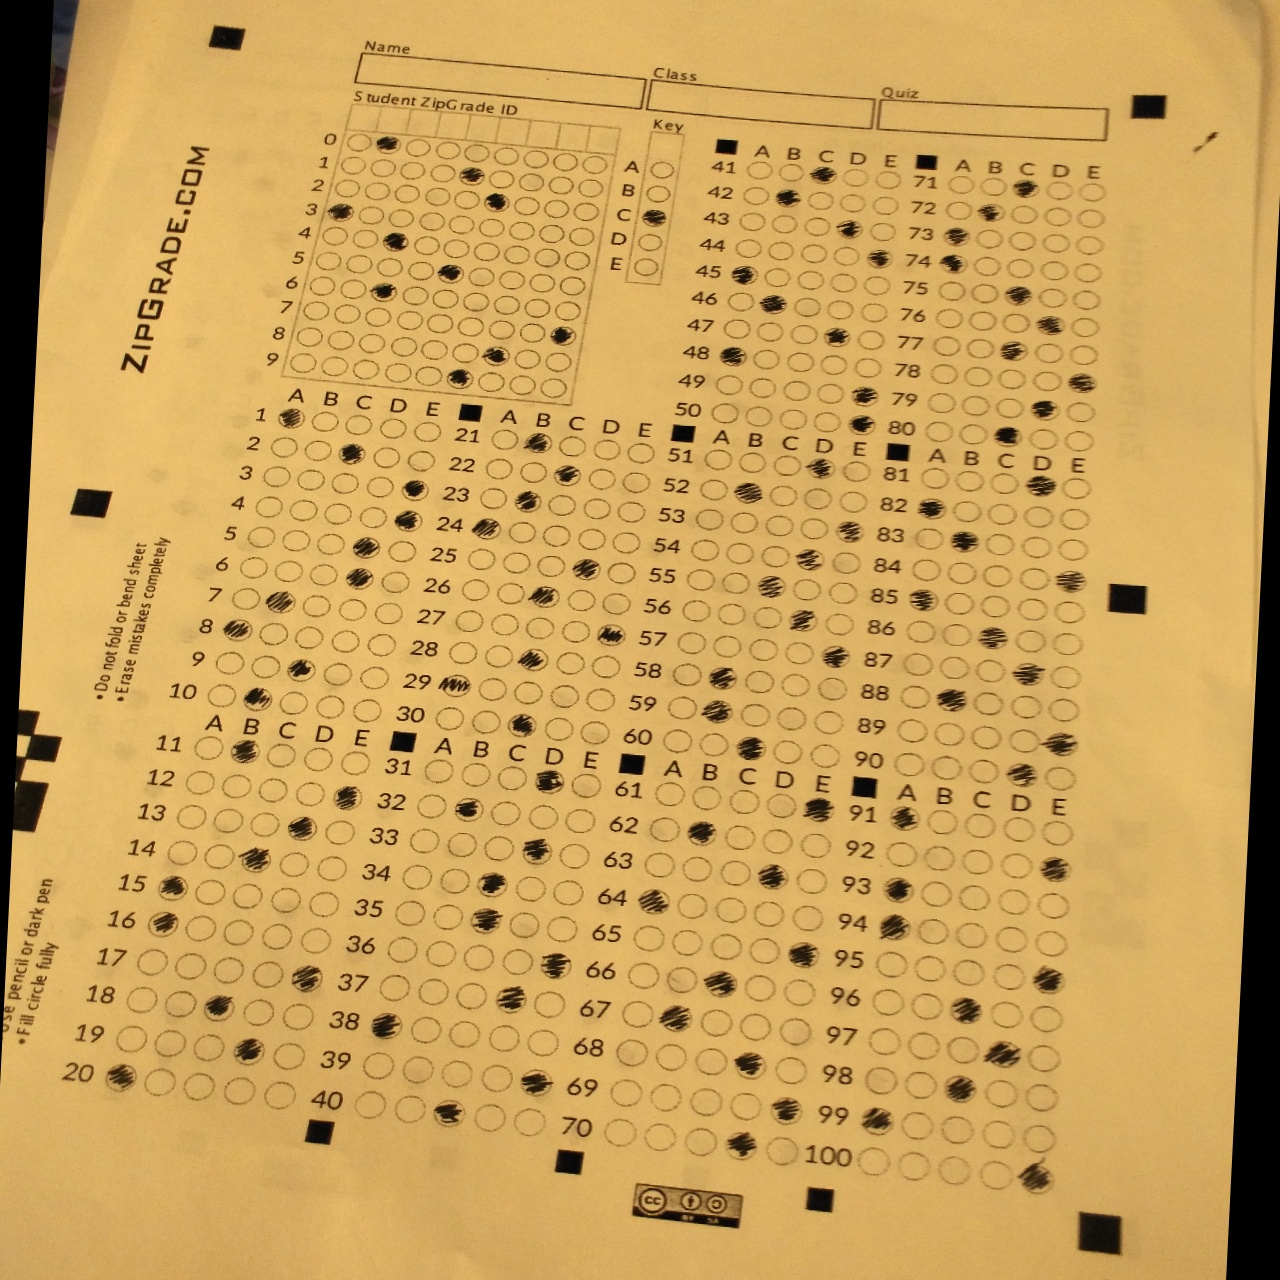not-c: (938, 1112, 978, 1148), (1019, 1122, 1058, 1156), (646, 1082, 685, 1115), (869, 985, 907, 1017), (618, 999, 655, 1032), (699, 1006, 736, 1039), (742, 972, 779, 1005), (707, 931, 744, 964), (674, 890, 712, 922), (720, 821, 757, 853), (651, 778, 688, 811), (726, 787, 763, 819), (1035, 888, 1073, 921), (1032, 928, 1070, 960), (934, 1155, 973, 1186), (763, 1135, 799, 1167), (687, 1085, 723, 1118), (717, 856, 754, 888), (990, 959, 1027, 992), (942, 1033, 979, 1065), (693, 1046, 730, 1077), (775, 1015, 812, 1047), (779, 978, 817, 1009), (745, 937, 783, 968), (645, 815, 682, 846), (688, 783, 726, 815), (881, 838, 919, 870), (958, 847, 995, 879), (999, 850, 1036, 881), (993, 922, 1030, 954), (866, 1026, 904, 1057), (1022, 1082, 1060, 1114), (982, 1078, 1020, 1110), (901, 1069, 939, 1101), (855, 1145, 892, 1177), (894, 1150, 932, 1182), (622, 961, 661, 992), (862, 1065, 900, 1096), (898, 1110, 937, 1141), (979, 1119, 1017, 1150), (508, 908, 543, 941), (670, 927, 706, 960), (430, 901, 467, 933), (142, 1065, 178, 1097), (641, 1121, 678, 1152), (663, 966, 700, 998), (772, 1055, 809, 1087), (738, 1012, 775, 1043), (750, 898, 787, 930), (790, 903, 826, 934), (794, 865, 830, 897), (679, 851, 715, 883), (641, 850, 678, 881), (925, 806, 961, 838), (918, 877, 954, 908), (962, 811, 999, 843), (1001, 815, 1037, 846), (1040, 817, 1076, 849), (953, 919, 989, 951), (988, 999, 1024, 1030), (949, 956, 986, 988), (906, 1029, 942, 1061), (726, 1091, 763, 1122), (653, 1042, 690, 1073), (712, 896, 749, 926), (912, 954, 949, 985), (1028, 1002, 1065, 1033), (978, 1160, 1015, 1191), (556, 840, 591, 872), (183, 912, 218, 944), (222, 1075, 257, 1107), (359, 1050, 394, 1082), (438, 1058, 474, 1090), (511, 1107, 546, 1138), (499, 946, 535, 978), (376, 972, 411, 1003), (799, 831, 835, 863), (922, 840, 958, 872), (956, 881, 992, 913), (908, 990, 944, 1022), (493, 763, 530, 794), (461, 942, 497, 973), (682, 1126, 719, 1157), (614, 1039, 651, 1069), (760, 826, 796, 857), (763, 791, 799, 822), (998, 885, 1034, 915), (915, 914, 952, 945), (874, 948, 911, 979), (1024, 1043, 1061, 1074), (893, 716, 930, 747), (1049, 629, 1085, 660), (665, 693, 701, 723), (268, 884, 302, 915), (563, 806, 597, 838), (551, 876, 585, 907), (437, 865, 471, 897), (125, 983, 159, 1015), (152, 1027, 186, 1058), (241, 996, 275, 1028), (250, 959, 284, 990), (400, 1054, 434, 1085), (448, 1017, 482, 1049), (393, 1092, 427, 1124), (306, 888, 341, 919), (229, 881, 264, 912), (400, 863, 435, 893), (414, 792, 449, 823), (422, 756, 457, 787), (545, 913, 580, 944), (486, 798, 522, 829), (192, 877, 227, 907), (172, 952, 207, 982), (135, 947, 170, 978), (192, 1033, 227, 1063), (211, 954, 246, 985), (259, 921, 294, 952), (298, 926, 333, 956), (271, 1040, 306, 1070), (263, 1080, 298, 1110), (353, 1090, 388, 1121), (472, 1102, 508, 1132), (526, 1028, 561, 1058), (532, 989, 567, 1020), (383, 934, 418, 965), (409, 1015, 444, 1046), (602, 1117, 638, 1148), (610, 1077, 645, 1108), (629, 922, 665, 953), (928, 753, 964, 783), (937, 653, 972, 683), (806, 740, 842, 770), (669, 661, 704, 692), (782, 636, 817, 667), (1046, 696, 1082, 726), (769, 736, 805, 765), (709, 631, 745, 660), (392, 899, 425, 930), (568, 770, 602, 801), (526, 802, 560, 832), (445, 829, 479, 859), (164, 989, 198, 1020), (182, 1071, 216, 1102), (222, 918, 256, 948), (281, 1001, 315, 1032), (423, 939, 457, 969), (454, 981, 488, 1012), (481, 835, 516, 864), (416, 978, 451, 1007), (966, 756, 1001, 785), (932, 721, 967, 750), (897, 681, 932, 710), (974, 656, 1009, 686), (971, 689, 1006, 719), (969, 722, 1005, 751), (1007, 726, 1042, 755), (1044, 764, 1080, 794), (1008, 692, 1043, 721), (696, 730, 731, 760), (660, 726, 695, 755), (903, 617, 938, 646), (908, 554, 944, 584), (750, 602, 785, 632), (891, 751, 927, 779), (741, 669, 777, 697), (407, 826, 441, 856), (458, 760, 492, 789), (513, 874, 547, 904), (115, 1024, 149, 1054), (481, 1064, 515, 1094), (486, 1024, 520, 1054), (900, 651, 935, 679), (1048, 663, 1083, 692), (673, 629, 708, 658), (747, 636, 782, 665), (774, 704, 809, 733), (737, 702, 772, 730), (678, 597, 713, 625), (823, 610, 858, 638), (275, 690, 309, 719), (488, 611, 522, 639), (210, 806, 244, 835), (778, 670, 812, 699), (816, 674, 850, 702), (715, 601, 749, 629), (811, 708, 846, 735), (939, 621, 974, 648), (1015, 595, 1050, 622), (942, 590, 978, 617), (835, 488, 870, 515), (700, 445, 735, 472), (314, 693, 347, 721), (193, 734, 226, 762), (583, 686, 615, 714), (458, 577, 491, 605), (301, 745, 334, 774), (315, 855, 348, 883), (433, 704, 467, 731), (549, 683, 583, 710), (447, 640, 481, 667), (338, 750, 372, 777), (719, 568, 753, 595), (980, 561, 1014, 588), (1019, 535, 1053, 561), (798, 515, 832, 542), (772, 452, 806, 479), (790, 577, 825, 602), (687, 537, 722, 563), (1013, 629, 1048, 655), (919, 467, 954, 492), (1019, 504, 1054, 530), (763, 512, 798, 538), (801, 486, 836, 512), (736, 449, 771, 475), (558, 619, 590, 647), (350, 696, 383, 723), (205, 682, 238, 709), (468, 708, 501, 735), (542, 714, 574, 741), (512, 679, 545, 706), (476, 678, 509, 704), (482, 644, 515, 670), (554, 651, 587, 678), (590, 654, 622, 681), (523, 615, 556, 642), (452, 608, 485, 635), (493, 581, 526, 608), (599, 590, 632, 617), (536, 553, 568, 580), (295, 781, 328, 808), (257, 777, 290, 804), (220, 772, 253, 799), (165, 839, 198, 866), (203, 844, 236, 871), (248, 811, 281, 838), (324, 819, 356, 846), (825, 580, 859, 606), (685, 566, 719, 592), (723, 540, 757, 566), (758, 544, 792, 570), (829, 550, 863, 576), (1051, 601, 1085, 627), (978, 594, 1012, 620), (945, 559, 979, 585), (1017, 565, 1051, 591), (983, 532, 1017, 558), (985, 502, 1019, 527), (949, 499, 983, 525), (952, 467, 986, 492), (987, 470, 1021, 496), (1058, 475, 1092, 501), (1058, 505, 1092, 531), (1056, 536, 1090, 561), (913, 525, 947, 551), (726, 509, 760, 535), (692, 508, 726, 533), (697, 478, 731, 504), (767, 484, 801, 510), (839, 458, 873, 484), (253, 493, 285, 520), (307, 561, 339, 588), (237, 554, 268, 581), (338, 595, 369, 622), (293, 624, 325, 651), (579, 720, 611, 747), (564, 587, 595, 614), (605, 559, 636, 586), (265, 742, 297, 769), (184, 769, 216, 796), (176, 803, 207, 830), (279, 850, 311, 877), (257, 620, 290, 646), (358, 665, 390, 690), (556, 434, 588, 459), (488, 425, 520, 451), (720, 316, 753, 342), (924, 418, 956, 444), (924, 392, 956, 417), (733, 236, 765, 261), (501, 549, 531, 576), (315, 531, 347, 557), (381, 570, 413, 595), (301, 593, 333, 619), (213, 651, 245, 676), (576, 527, 607, 553), (483, 456, 515, 482), (517, 458, 549, 484), (626, 440, 658, 465), (782, 377, 813, 403), (750, 346, 782, 372), (823, 298, 855, 324), (762, 264, 794, 290), (996, 366, 1028, 392), (1065, 400, 1097, 425), (1000, 309, 1032, 335), (1009, 202, 1041, 227), (735, 209, 767, 234), (230, 586, 263, 611), (372, 601, 404, 626), (712, 373, 744, 397), (856, 300, 888, 325), (829, 271, 862, 295), (956, 422, 989, 447), (1067, 343, 1099, 368), (1039, 258, 1071, 282), (1005, 257, 1037, 281), (942, 198, 975, 223), (945, 171, 978, 196), (978, 175, 1010, 199), (738, 183, 771, 207), (280, 527, 311, 553), (322, 661, 353, 687), (617, 501, 647, 526), (587, 467, 618, 492), (592, 438, 622, 464), (777, 406, 808, 431), (268, 435, 300, 459), (387, 539, 418, 564), (366, 633, 397, 658), (250, 653, 281, 678), (465, 547, 497, 572), (610, 530, 641, 554), (581, 497, 613, 522), (477, 486, 509, 511), (816, 382, 847, 407), (818, 353, 850, 377), (855, 328, 886, 353), (747, 374, 778, 399), (784, 349, 816, 374), (755, 319, 787, 343), (795, 267, 826, 292), (959, 394, 990, 418), (966, 307, 998, 332), (965, 335, 996, 360), (995, 396, 1027, 421), (1028, 425, 1060, 450), (1062, 428, 1094, 452), (1069, 316, 1101, 341), (1039, 286, 1070, 311), (1039, 230, 1070, 254), (1075, 206, 1107, 231), (1044, 178, 1076, 203), (1042, 204, 1074, 229), (831, 244, 863, 268), (765, 239, 797, 264), (775, 159, 806, 184), (804, 189, 836, 213), (1033, 341, 1065, 365), (1005, 229, 1037, 252), (838, 166, 872, 189), (342, 414, 373, 438), (411, 418, 442, 443), (407, 449, 437, 474), (322, 502, 353, 526), (246, 524, 277, 549), (272, 559, 302, 584), (331, 629, 361, 654), (506, 520, 537, 545), (540, 524, 571, 549), (621, 470, 652, 495), (710, 401, 741, 425), (743, 404, 774, 429), (726, 288, 756, 313), (792, 295, 823, 320), (933, 306, 964, 331), (937, 280, 967, 305), (962, 365, 993, 389), (1071, 286, 1102, 311), (1073, 232, 1103, 257), (1078, 181, 1109, 205), (302, 438, 334, 462), (358, 505, 389, 529), (546, 493, 578, 517), (810, 410, 842, 434), (789, 322, 821, 346), (860, 273, 892, 297), (930, 363, 961, 387), (932, 335, 964, 359), (1032, 369, 1063, 393), (1073, 261, 1104, 285), (972, 253, 1003, 277), (974, 227, 1006, 251), (799, 241, 831, 265), (743, 158, 775, 182), (295, 467, 325, 491), (365, 475, 394, 499), (477, 215, 508, 238), (377, 416, 408, 440), (370, 445, 401, 469), (853, 358, 884, 381), (969, 281, 1000, 305), (874, 169, 905, 192), (462, 141, 491, 164), (486, 168, 516, 191), (572, 200, 601, 224), (417, 209, 447, 232), (338, 277, 367, 300), (503, 243, 532, 266), (527, 271, 557, 294), (320, 225, 349, 248), (461, 290, 490, 313), (260, 464, 290, 488), (550, 151, 580, 173), (386, 207, 416, 230), (563, 248, 593, 271), (486, 319, 517, 341), (395, 309, 425, 332), (309, 410, 340, 433), (331, 472, 361, 495), (837, 193, 869, 215), (803, 215, 835, 236), (425, 311, 454, 334), (508, 374, 536, 397), (403, 137, 433, 159), (520, 147, 550, 169), (545, 175, 574, 197), (516, 171, 545, 193), (339, 154, 368, 176), (333, 177, 362, 199), (392, 183, 421, 205), (423, 185, 452, 207), (451, 188, 481, 210), (647, 159, 676, 182), (631, 256, 660, 278), (376, 256, 406, 278), (442, 238, 471, 260), (471, 240, 501, 263), (532, 246, 561, 268), (558, 275, 587, 298), (497, 268, 526, 291), (467, 267, 496, 290), (314, 250, 343, 272), (401, 285, 430, 307), (553, 301, 583, 324), (518, 321, 547, 343), (294, 325, 324, 347), (326, 329, 355, 352), (418, 338, 448, 360), (477, 372, 506, 394), (350, 358, 380, 380), (320, 355, 349, 377), (290, 498, 319, 520), (445, 213, 476, 234), (869, 195, 899, 216), (769, 213, 799, 234), (576, 177, 604, 199), (636, 232, 665, 254), (358, 204, 386, 226), (343, 252, 372, 274), (513, 348, 542, 370), (365, 306, 393, 328), (302, 299, 331, 321), (356, 332, 384, 354), (383, 361, 411, 383), (288, 352, 316, 374), (345, 132, 374, 154), (433, 139, 462, 161), (429, 163, 458, 184), (368, 158, 397, 179), (362, 181, 392, 202), (512, 196, 542, 217), (644, 184, 673, 205), (537, 223, 566, 244), (407, 261, 436, 282), (411, 234, 441, 256), (308, 275, 338, 297), (430, 288, 459, 309), (491, 294, 520, 315), (522, 298, 551, 319), (456, 316, 485, 338), (333, 302, 362, 324), (389, 336, 418, 358), (450, 343, 479, 365), (543, 350, 572, 372), (539, 377, 568, 399), (414, 366, 443, 387), (867, 222, 898, 241), (492, 145, 520, 166), (581, 154, 610, 175), (397, 159, 425, 181), (542, 197, 570, 218), (567, 226, 595, 247), (350, 229, 380, 248), (508, 222, 536, 241)
taken-c: (1016, 1163, 1058, 1198), (947, 994, 988, 1029), (722, 1126, 761, 1162), (983, 1037, 1023, 1071), (1028, 965, 1070, 996), (859, 1105, 896, 1141), (941, 1073, 979, 1107), (448, 795, 486, 828), (518, 836, 556, 869), (287, 964, 326, 995), (367, 1012, 406, 1043), (430, 1096, 469, 1128), (537, 951, 576, 982), (530, 768, 568, 799), (879, 872, 918, 904), (934, 686, 973, 717), (518, 1065, 554, 1098), (200, 993, 238, 1024), (492, 985, 530, 1016), (465, 905, 503, 937), (474, 871, 511, 903), (1002, 760, 1040, 791), (230, 1037, 268, 1068), (101, 1062, 139, 1092), (502, 712, 540, 742), (767, 1096, 805, 1126), (876, 912, 914, 942), (884, 804, 922, 835), (1043, 729, 1082, 760), (1009, 658, 1047, 688), (975, 624, 1013, 654), (785, 940, 822, 971), (755, 862, 792, 891), (1037, 853, 1075, 883), (144, 908, 181, 938), (635, 887, 672, 917), (947, 529, 983, 558), (659, 1005, 696, 1033), (731, 1051, 769, 1080), (285, 813, 320, 843), (734, 735, 769, 764), (802, 795, 837, 824), (238, 846, 274, 874), (685, 819, 721, 847), (906, 587, 942, 615), (1054, 567, 1090, 595), (264, 588, 299, 617), (329, 784, 365, 812), (154, 874, 189, 903), (527, 583, 563, 611), (704, 971, 740, 999), (915, 493, 951, 522), (284, 658, 320, 685), (241, 685, 275, 713), (515, 646, 549, 674), (568, 556, 602, 584), (470, 516, 504, 544), (509, 488, 543, 516), (701, 697, 735, 726), (975, 198, 1009, 226), (787, 607, 822, 634), (819, 644, 855, 670), (707, 665, 742, 692), (1023, 474, 1058, 501), (1027, 396, 1062, 423), (995, 338, 1030, 365), (440, 670, 472, 699), (594, 622, 627, 651), (520, 428, 553, 456), (222, 617, 256, 644), (229, 738, 263, 765), (549, 463, 583, 490), (794, 546, 828, 573), (1002, 282, 1036, 309), (754, 574, 789, 600), (1033, 313, 1068, 339), (392, 508, 424, 535), (845, 413, 878, 440), (990, 424, 1024, 450), (1065, 372, 1099, 397), (937, 252, 971, 278), (939, 223, 973, 248), (1012, 177, 1046, 203), (350, 535, 383, 560), (806, 161, 839, 186), (832, 216, 865, 241), (716, 343, 749, 369), (733, 479, 765, 505), (726, 263, 760, 287), (275, 406, 307, 431), (343, 565, 375, 591), (757, 291, 789, 316), (821, 324, 852, 349), (770, 186, 803, 211), (863, 246, 896, 271), (847, 383, 880, 408), (804, 457, 837, 482), (833, 519, 866, 544), (481, 343, 512, 368), (399, 478, 430, 503), (638, 206, 670, 230), (336, 442, 367, 467), (373, 132, 404, 156), (445, 366, 476, 389), (456, 165, 486, 188), (327, 200, 358, 223), (381, 231, 411, 253), (437, 263, 467, 285), (549, 325, 578, 347), (482, 192, 512, 213), (369, 282, 400, 304)
